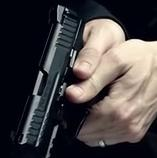gun: (1, 1, 157, 158)
